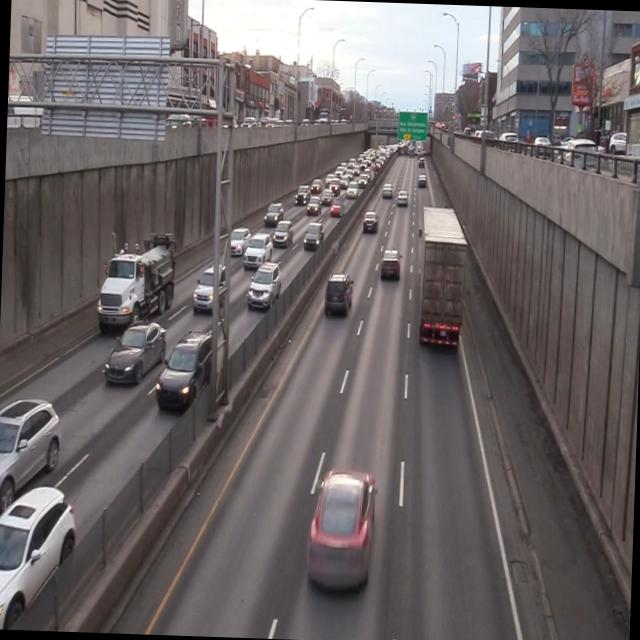Vehicle: (0, 480, 78, 631), (304, 466, 385, 596), (412, 185, 471, 361), (96, 228, 182, 335), (0, 391, 67, 519), (154, 326, 218, 419), (102, 317, 166, 398), (190, 254, 230, 314), (245, 256, 284, 310), (324, 268, 356, 324), (378, 244, 404, 288)
